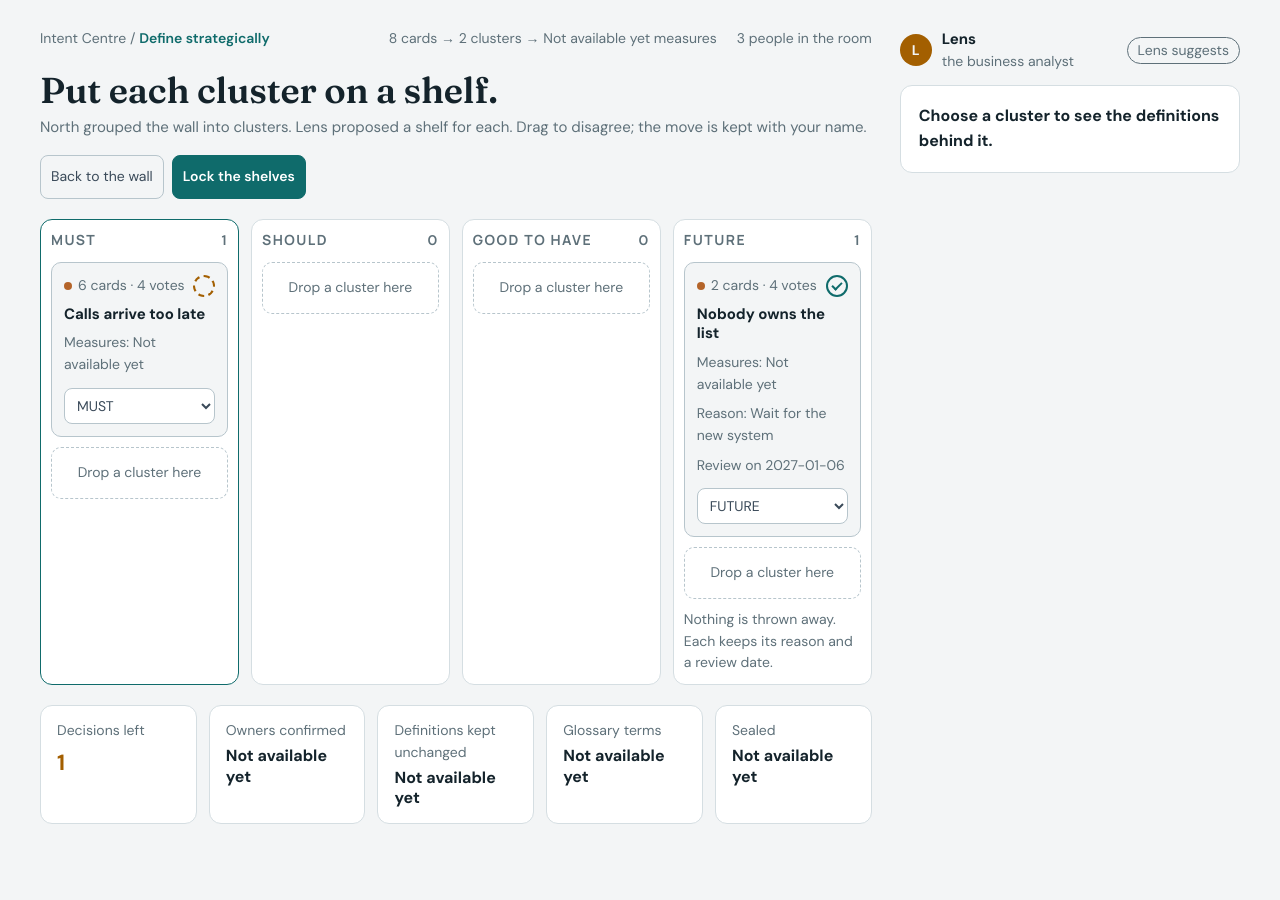
Test case: a refused shelf move shows the server's sentence as a plain line
The image size is (1280, 900).
Select "SHOULD" in the dropdown named "Move Calls arrive too late to…" at (139, 406), box [64,388,215,424]
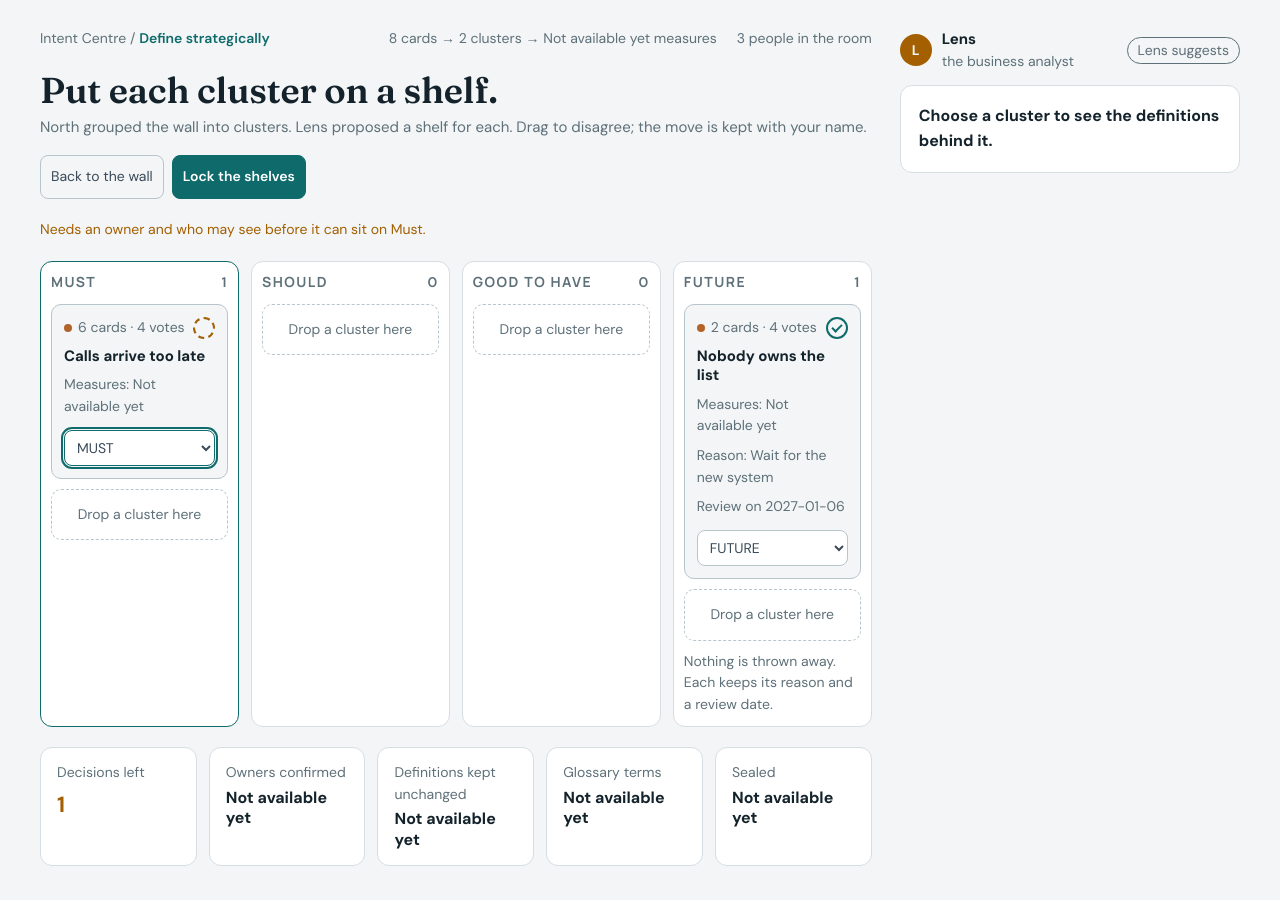
Result: the message reads "Needs an owner and who may see before it can sit on Must." at [40,220,426,238]
